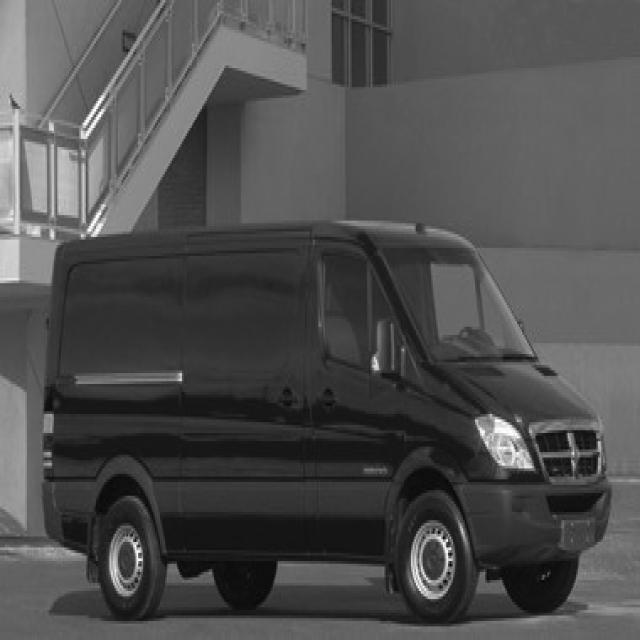car: (41, 218, 612, 624)
